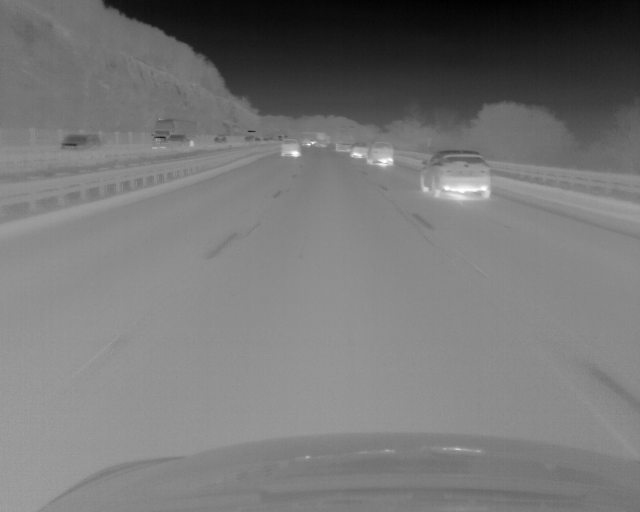car: (420, 151, 489, 200), (153, 119, 197, 145), (61, 134, 99, 150), (154, 134, 194, 149), (366, 143, 393, 165), (280, 139, 301, 157), (350, 143, 367, 158), (315, 132, 328, 148), (335, 138, 350, 151), (214, 135, 227, 143), (301, 139, 312, 147)
